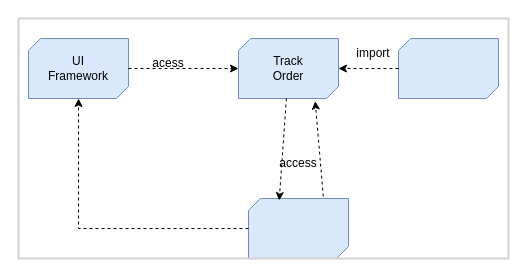
The diagram is 526 pixels wide and 276 high, and some of its shapes have lost their labels. Each missing label, with the box of its shape:
Order Processing: (248, 198, 348, 258)
Shipping: (398, 38, 498, 98)
